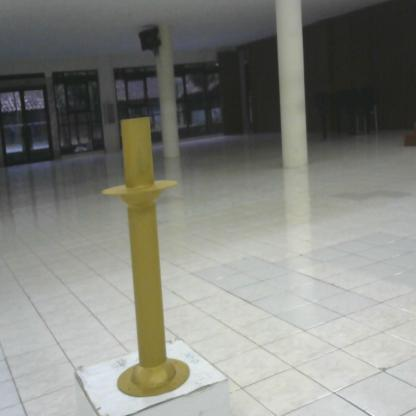pole: (100, 112, 194, 407)
